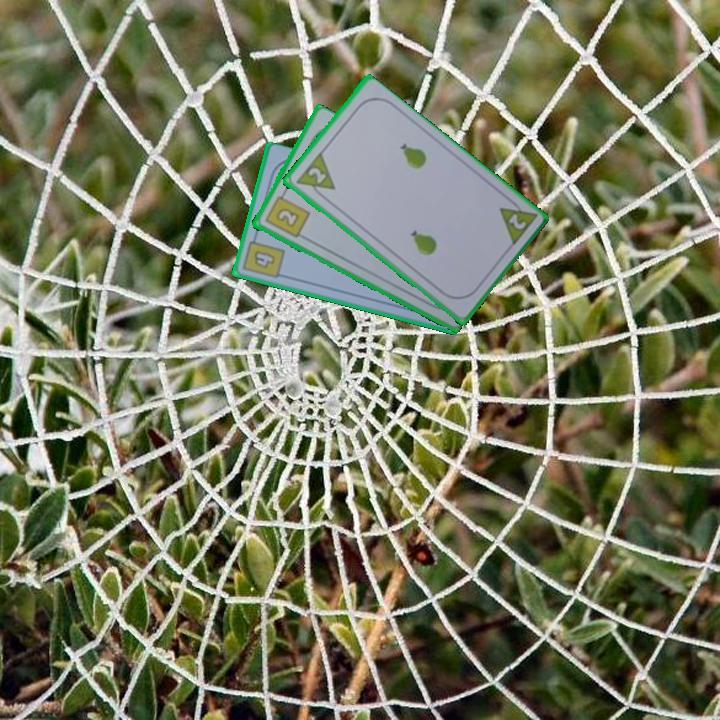2b: (261, 188, 312, 241)
2p: (495, 193, 539, 249), (304, 163, 329, 187)
4b: (239, 231, 288, 282)
